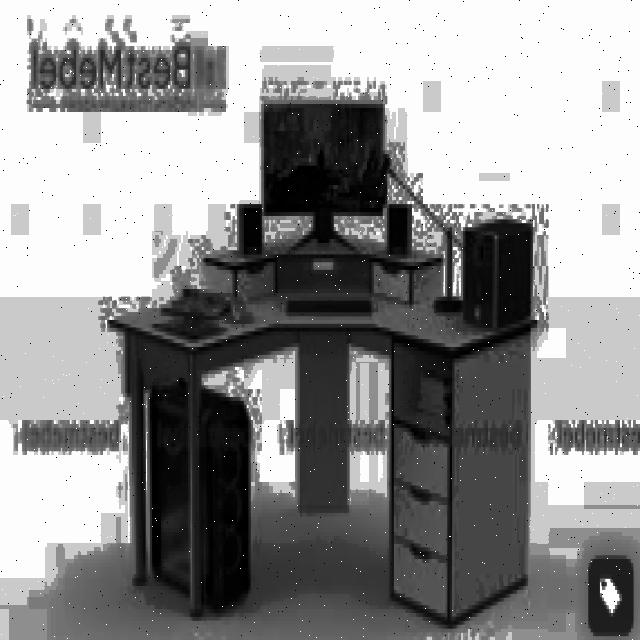table: (110, 285, 539, 625)
